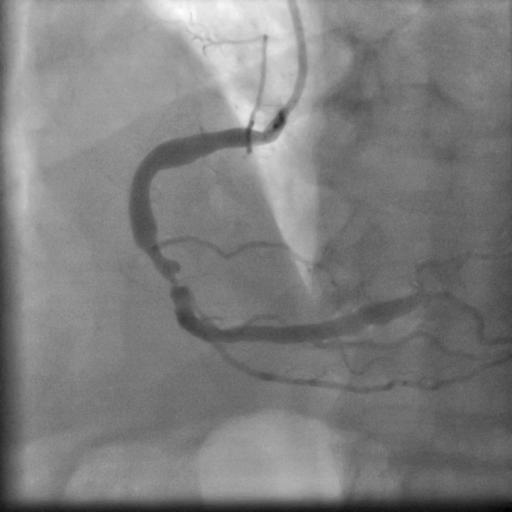Stenosis: (143, 252, 198, 296)
